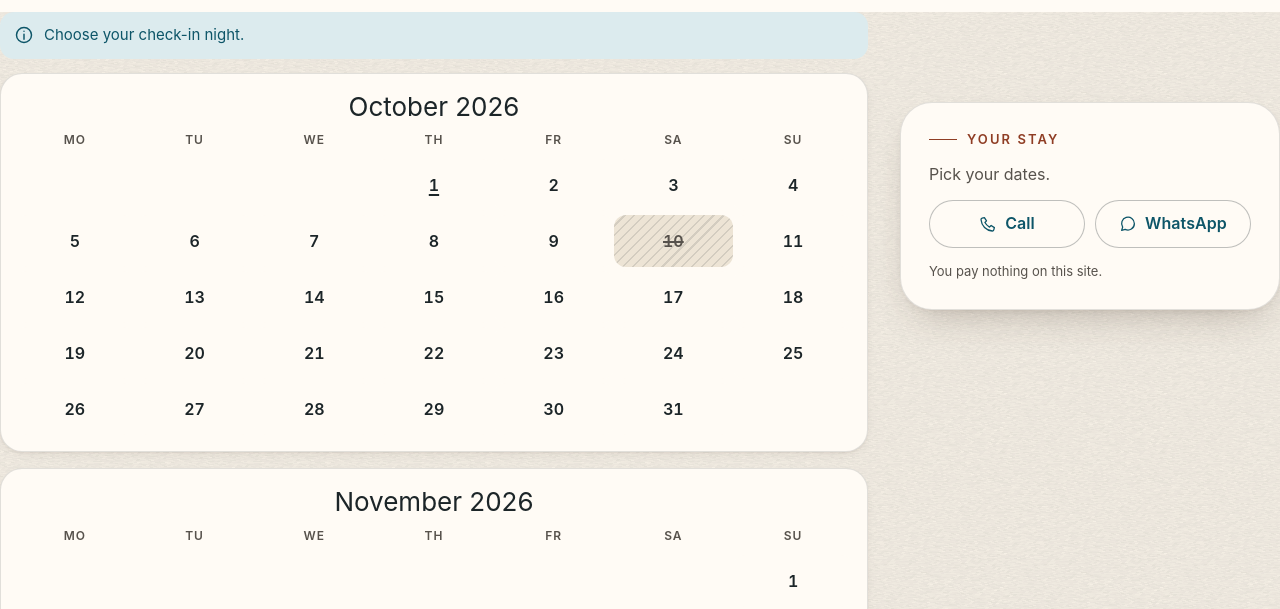
it: AvailabilityPlanner › explains the minimum stay and only enables check-out days that meet it
Click the button "15" below "October 2026": (434, 297) [374,271,494,323]
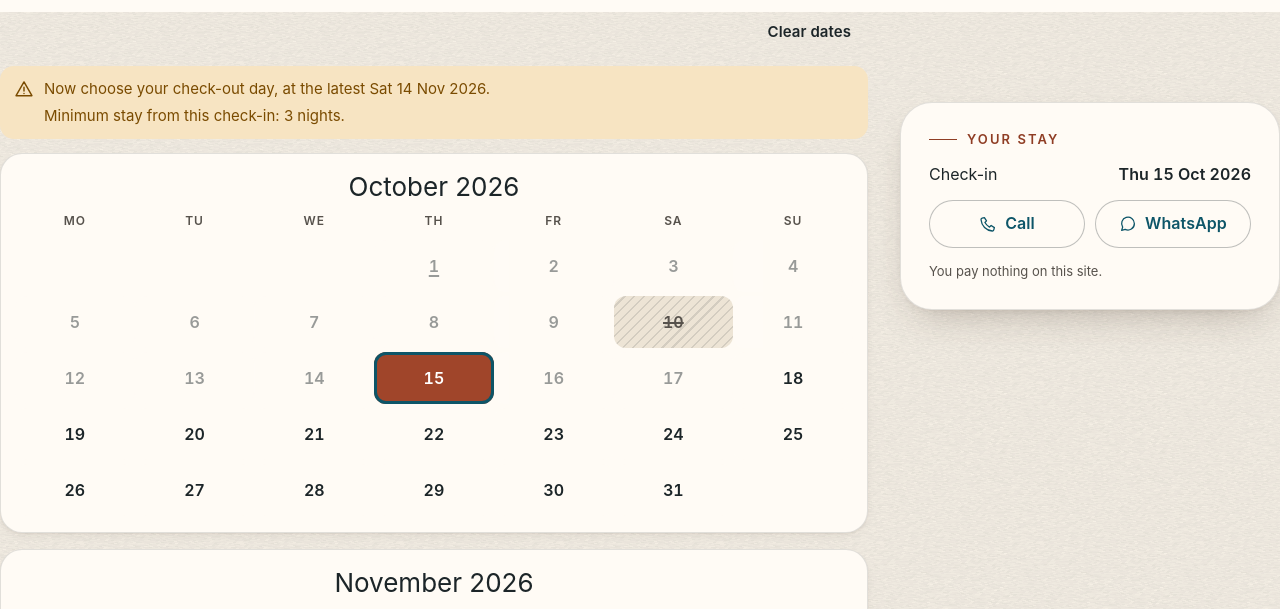
Now the text "Minimum stay from this check-in: 3 nights." is shown, box [44,106,345,124]
